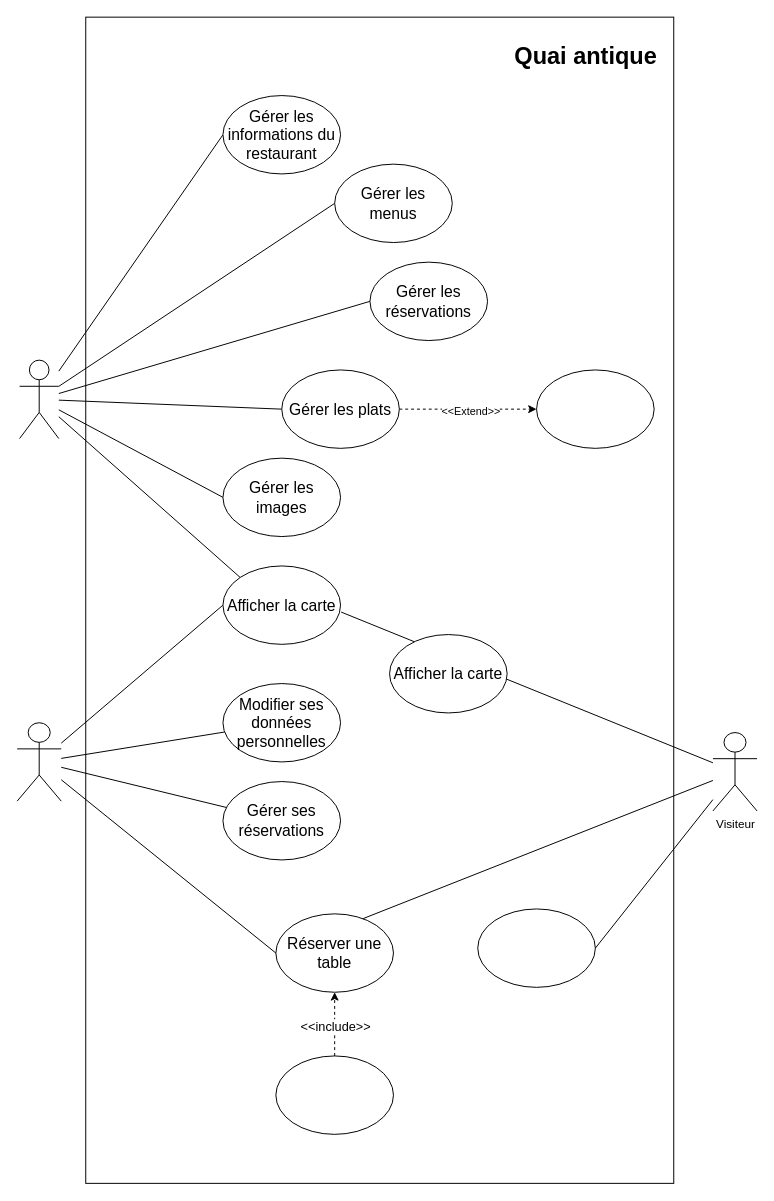
This 774x1201 diagram has some shape labels left out. The shapes that lost their labels are listed below. From the top down, each one's centre as x and y in pixels, then its label:
(x=39, y=399): Admin
(x=595, y=408): Gérer les catégories
(x=38, y=761): Client
(x=536, y=947): Inscription
(x=334, y=1094): Connexion
